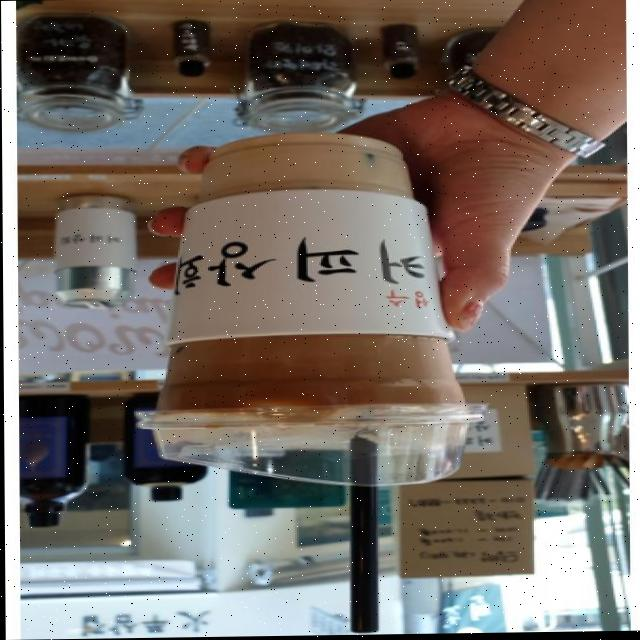cup: (117, 125, 478, 495)
